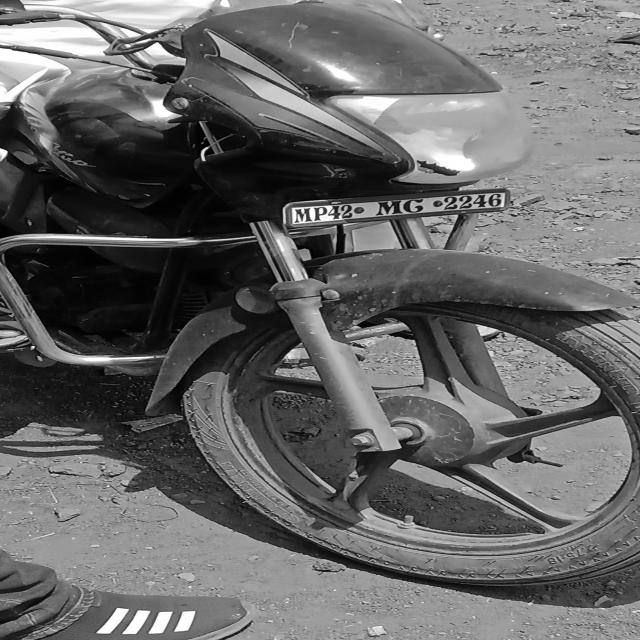bike: (3, 3, 638, 607)
license-plate: (286, 179, 560, 244)
